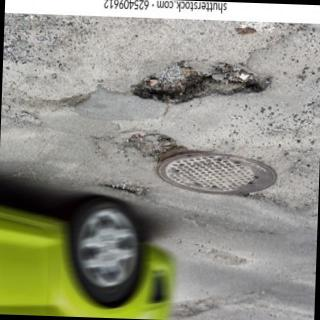pothole: (131, 60, 272, 104)
